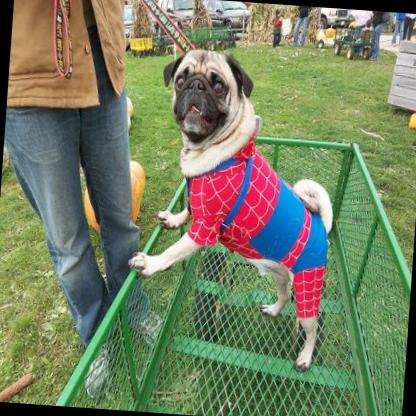pug: (120, 44, 343, 370)
